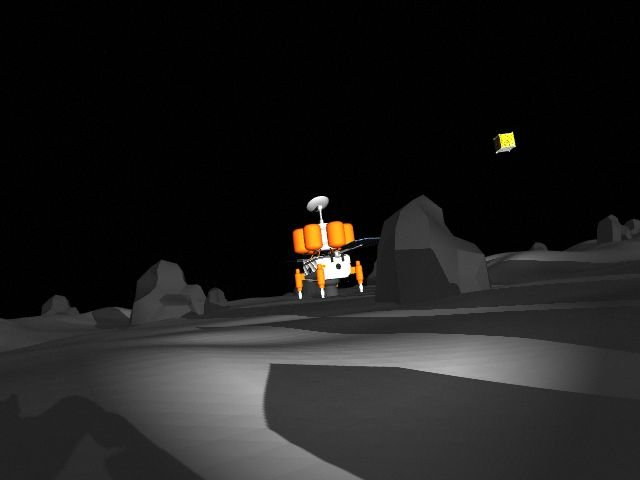homebase: (270, 194, 384, 300)
